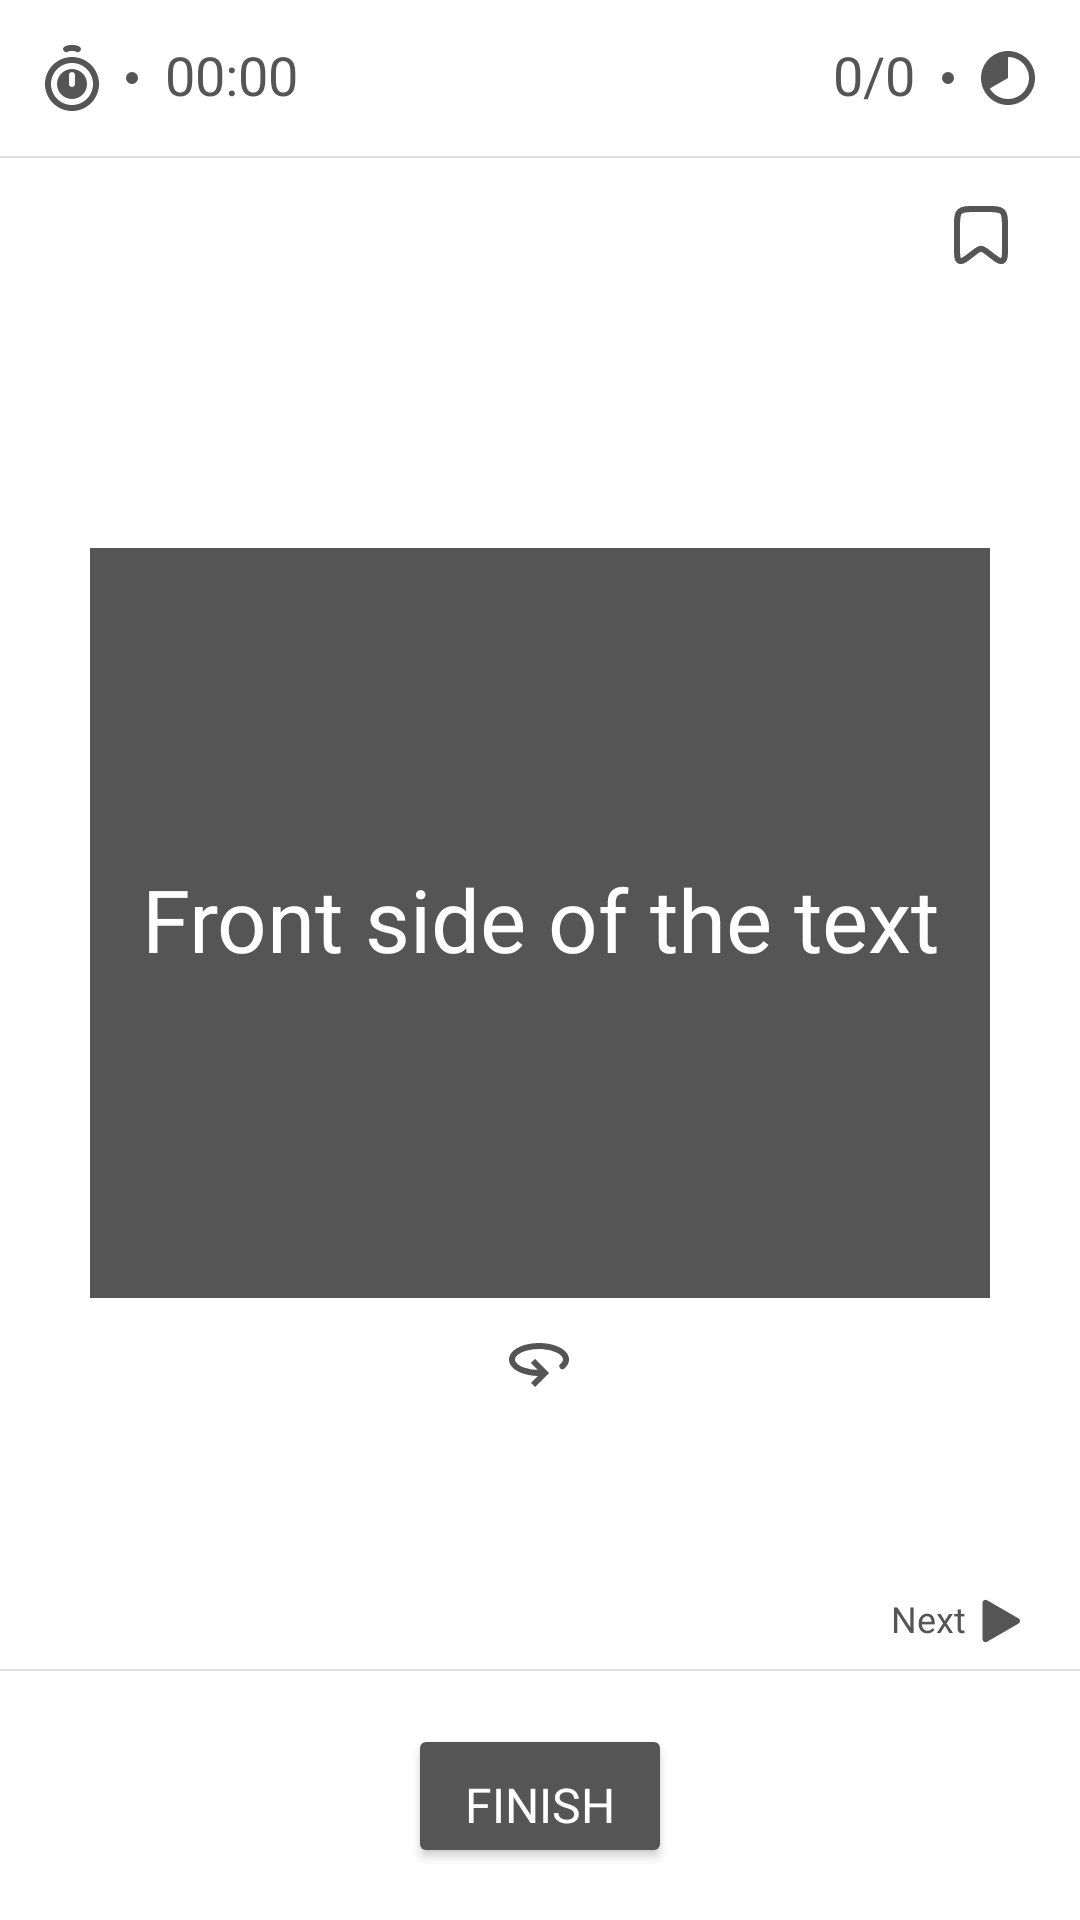

Named icons in this screenshot (1080*1920) and their bounding boxes, (x1, y1, x2, y2):
An icon shows whether a flashcard is marked or not: (954, 206, 1008, 264)
Flip icon: (509, 1343, 569, 1387)
progress: (981, 51, 1035, 105)
timer: (45, 45, 99, 111)
